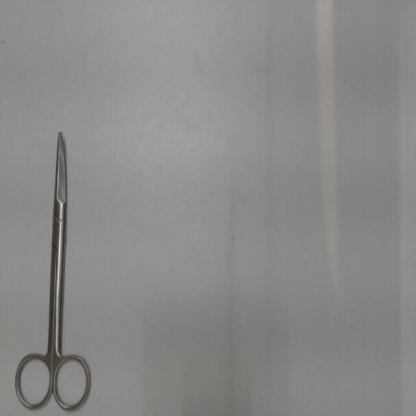Curved Mayo Scissors: (12, 125, 98, 413)
